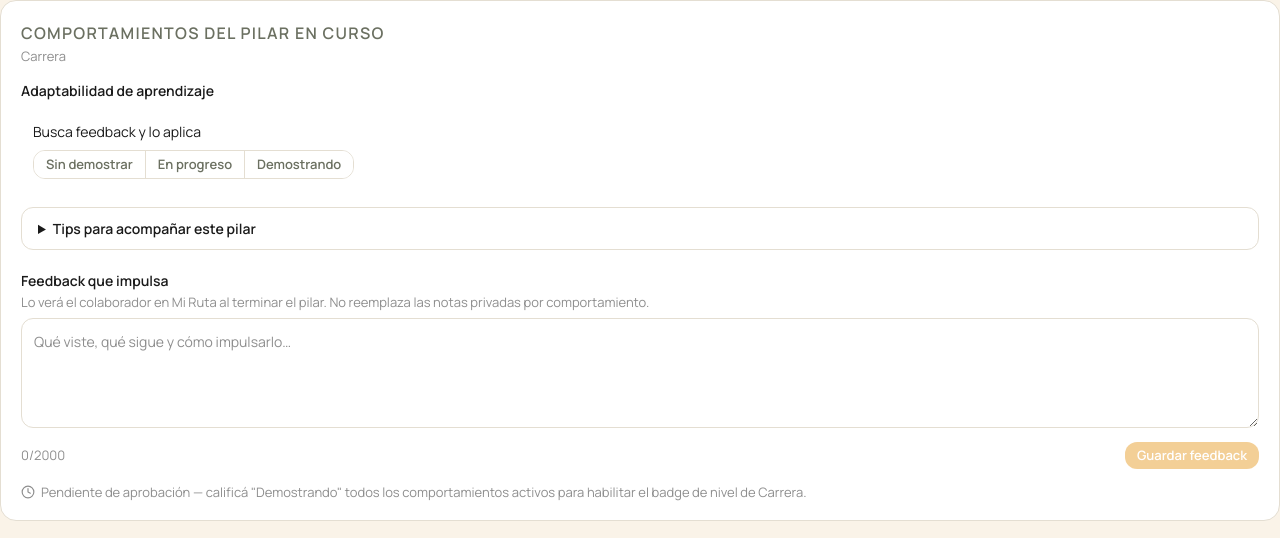
Scenario: BehaviorMatrixCard › rates a behavior optimistically and saves via PUT
Expected: the text "Busca feedback y lo aplica" is shown, [33,122,201,141]
Click the radio button labelled "Demostrando" at {"x": 299, "y": 164}, box [244,151,353,178]
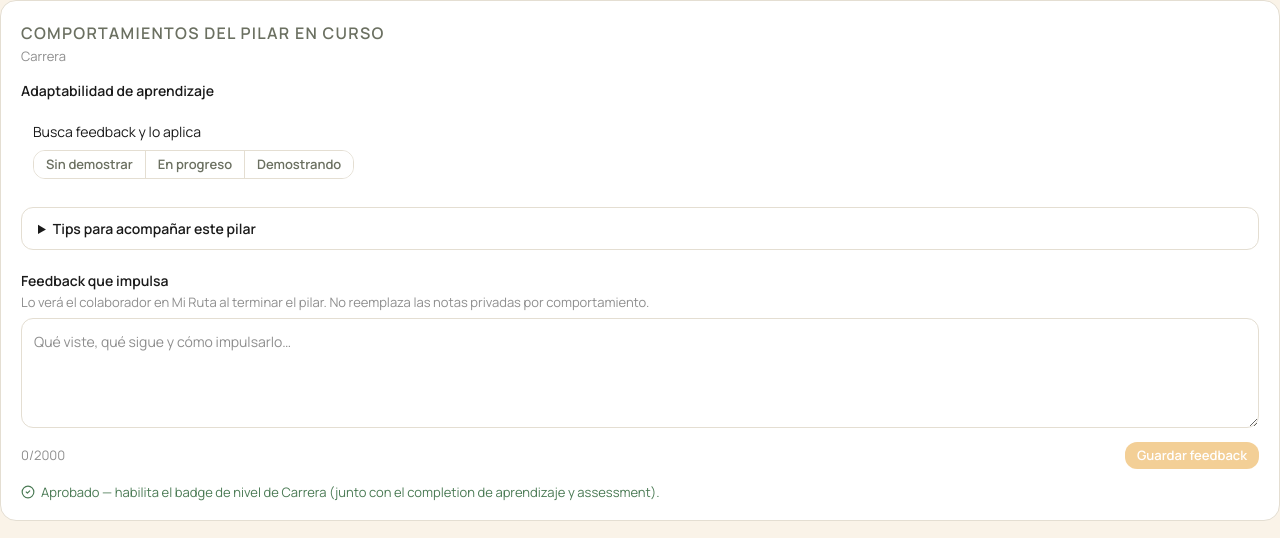
Now the text "Aprobado" is shown, box [41,483,282,501]
